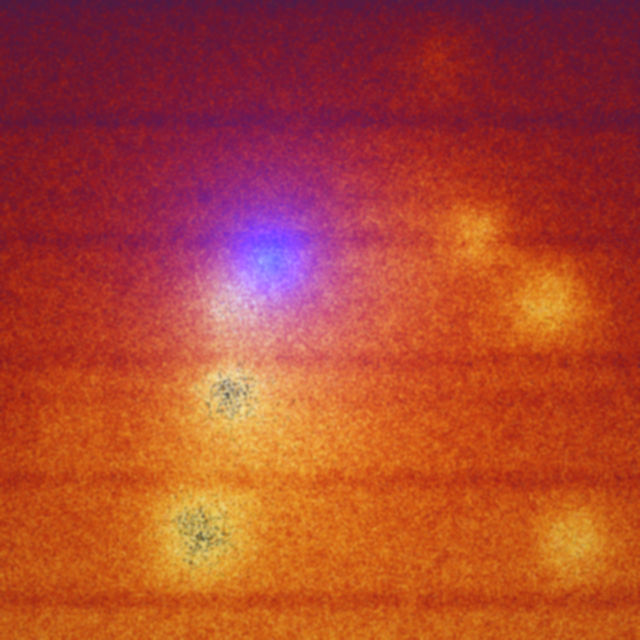nozzle: (221, 213, 312, 298)
